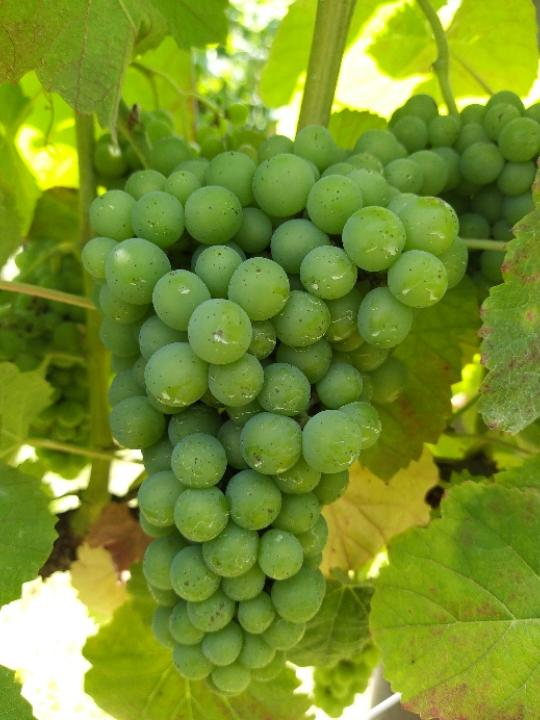grape: (83, 127, 478, 701)
